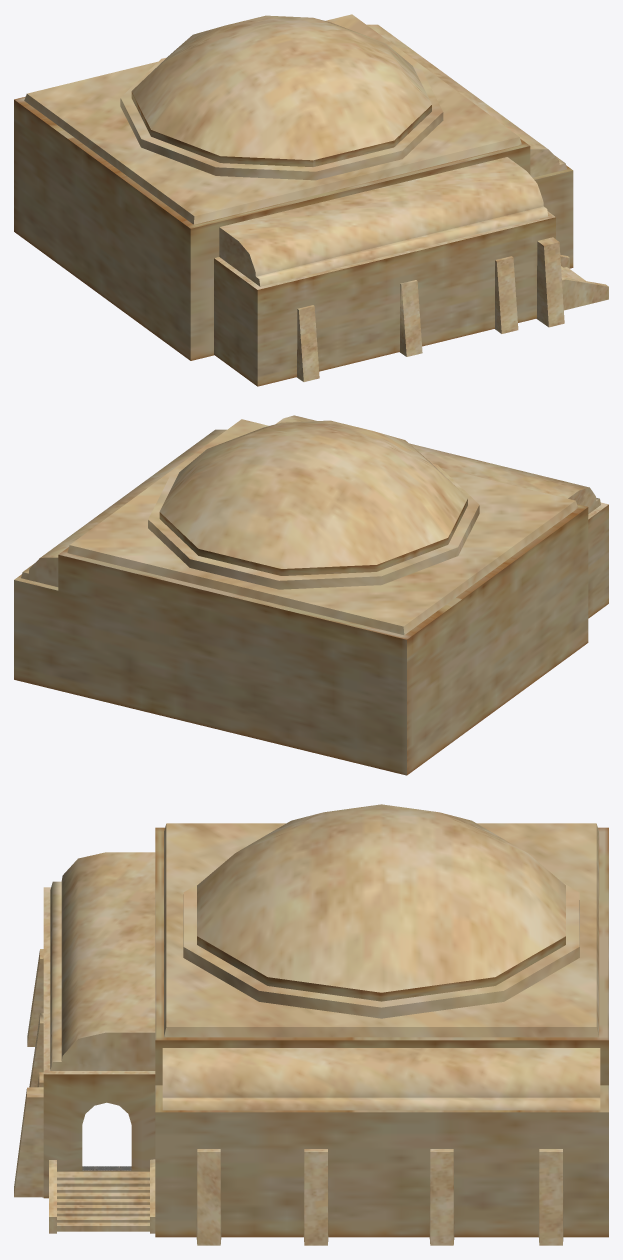
The model's file is thm_tato_house_m_s01_fp1_r0_mesh_l3.fbx.
3 views of the same model, one above another, from view 1: azimuth 30°, elevation 25°; view 2: azimuth 150°, elevation 25°; view 3: azimuth 270°, elevation 25° (orthographic). The views are drawn at different scales.
Parts seen in each view (by area): view 1: mesh_node; view 2: mesh_node; view 3: mesh_node.
Boxes of the visible parts, <box> form: mesh_node: <box>14,14,608,386</box>; mesh_node: <box>14,415,608,775</box>; mesh_node: <box>14,804,608,1245</box>.
Bounding box in the file's own units: 23.75 × 12.49 × 24.07.
